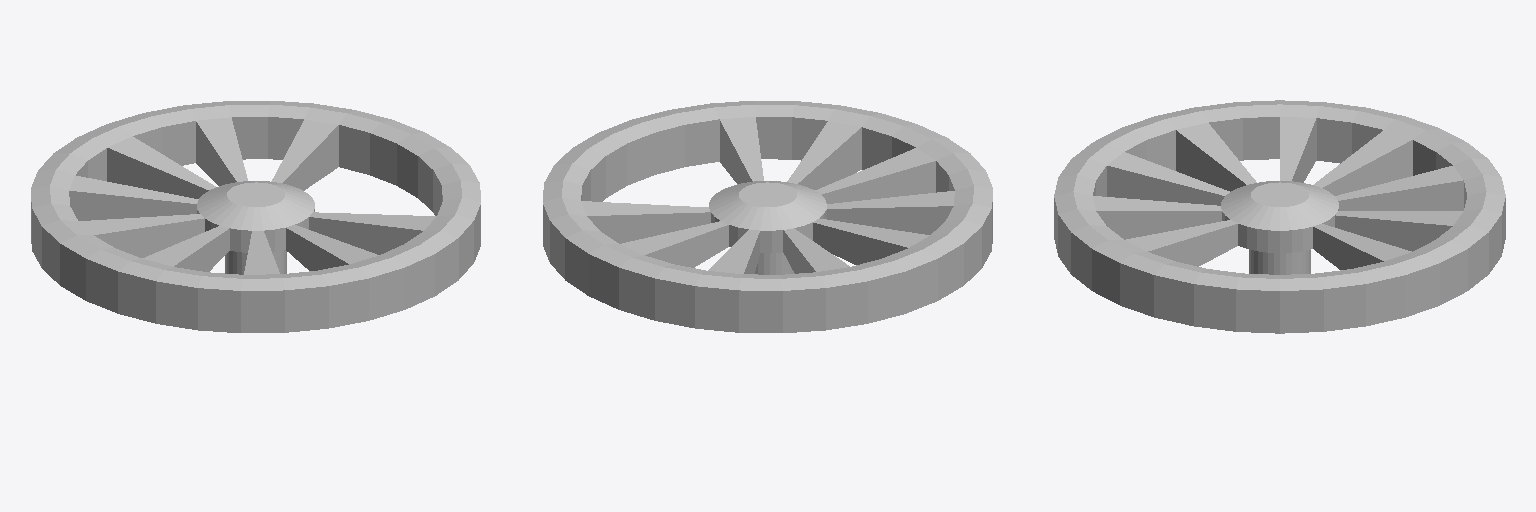
Rendered from steeringwheel.obj.
3 renders of one model, left to right at view 1: azimuth 30°, elevation 25°; view 2: azimuth 150°, elevation 25°; view 3: azimuth 270°, elevation 25°, orthographic.
Parts seen in each view (by area): view 1: Cylinder.001; view 2: Cylinder.001; view 3: Cylinder.001.
Part boxes in pixels (x1,y1,x2,y2): Cylinder.001: (31, 101, 480, 332); Cylinder.001: (543, 101, 992, 332); Cylinder.001: (1054, 100, 1505, 333).
Size of the model in its own units: 2 by 0.6277 by 2.